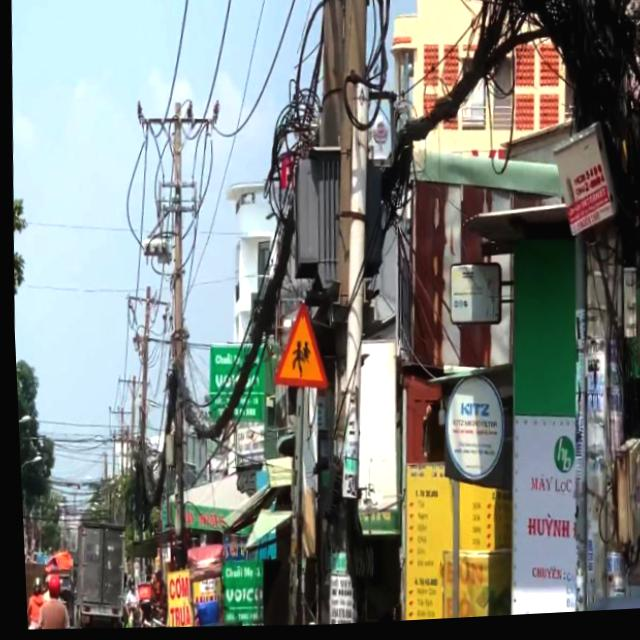Tre em: (266, 303, 327, 396)
